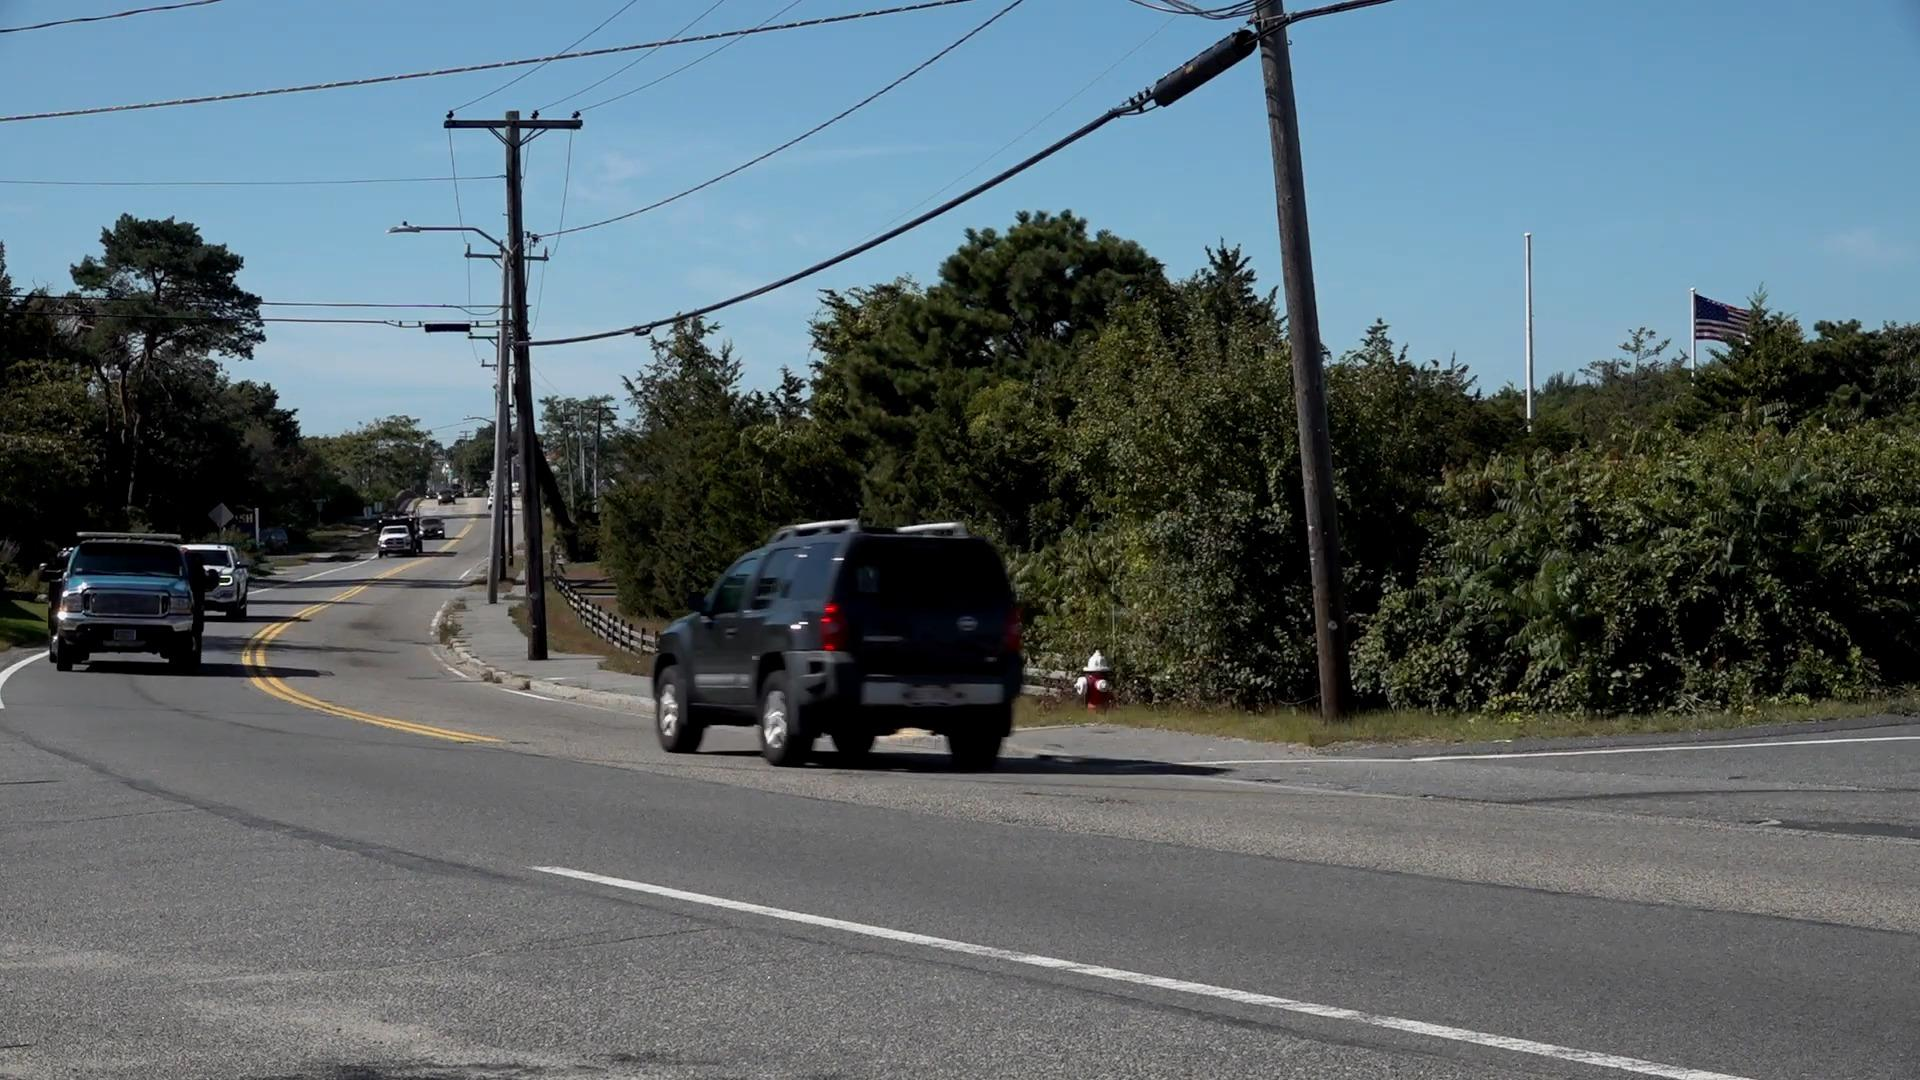pickup: (49, 530, 208, 671)
suv: (646, 518, 1019, 769)
